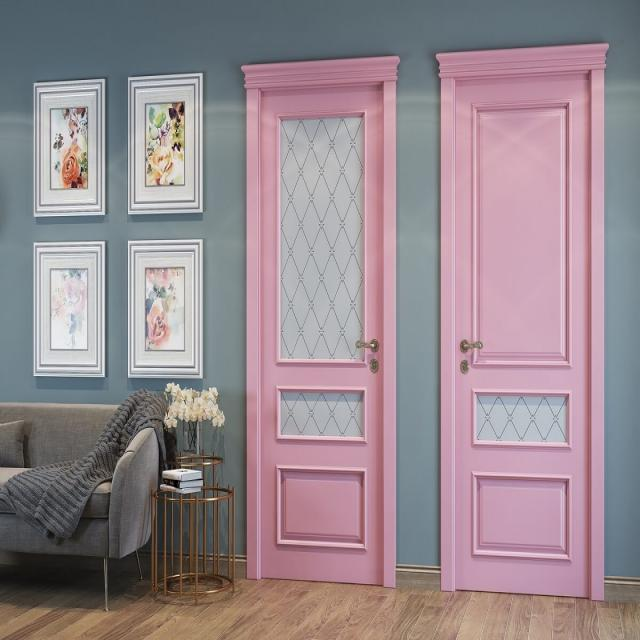close: (452, 79, 600, 603), (255, 85, 388, 579)
